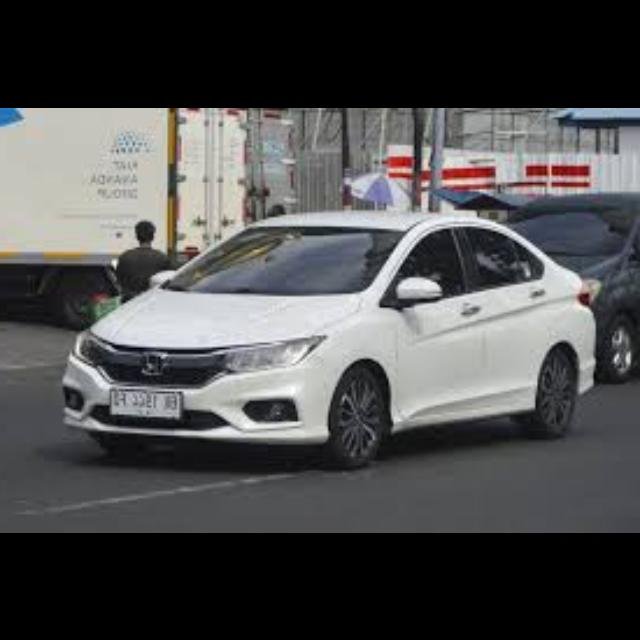vehicles: (70, 202, 600, 466)
